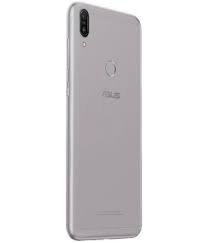asus: (64, 1, 145, 242)
